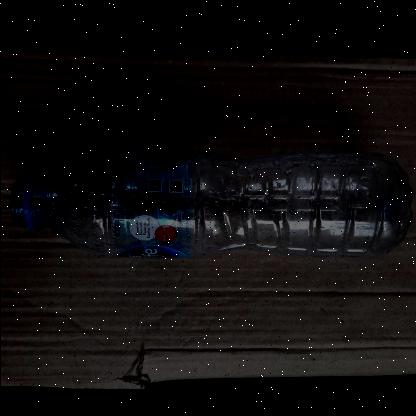Plastic Bottle: (8, 148, 416, 260)
